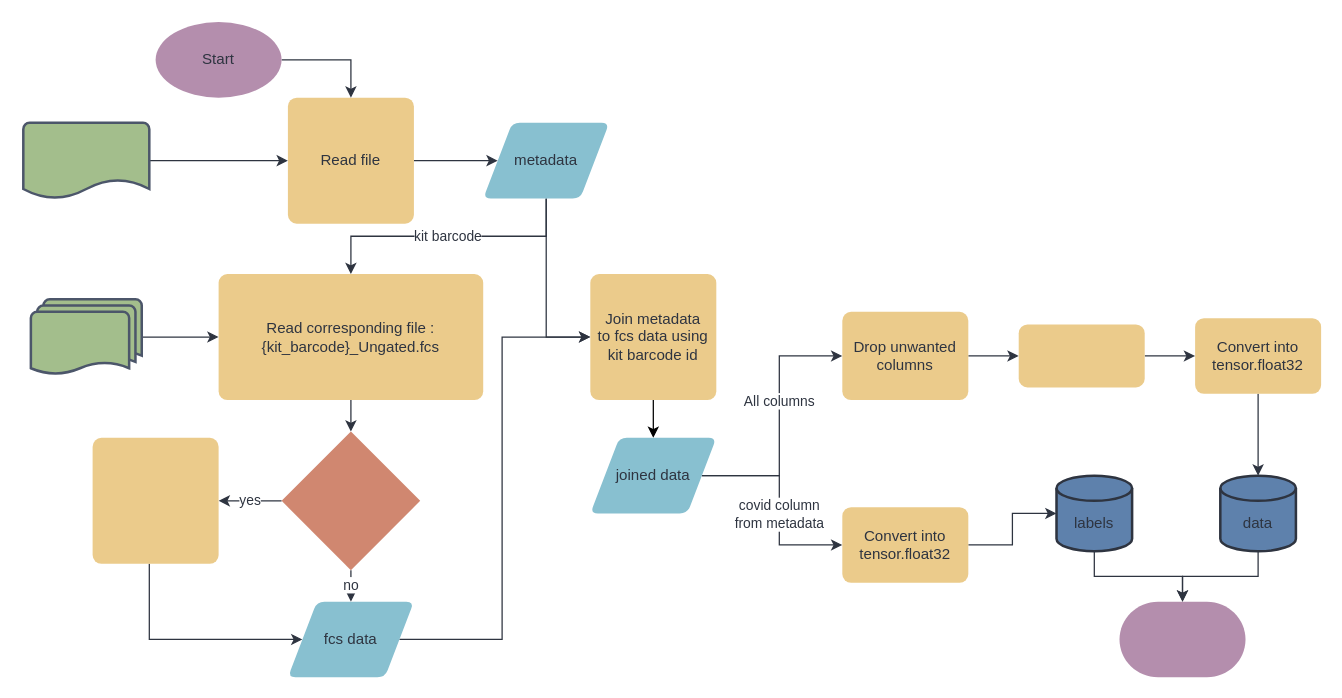
The diagram is 1342 pixels wide and 698 high, and some of its shapes have lost their labels. Here are the shapes that lost their labels. From the top down, the box of each, then its label:
(21, 121, 150, 199): metadata.xlsx
(29, 297, 142, 375): .fcs files
(1018, 324, 1144, 387): Normalize
(92, 437, 218, 563): Select n random rows (cells)
(281, 431, 420, 570): Fixed number of samples ?
(1119, 601, 1245, 677): Final Dataset : (data, label)
